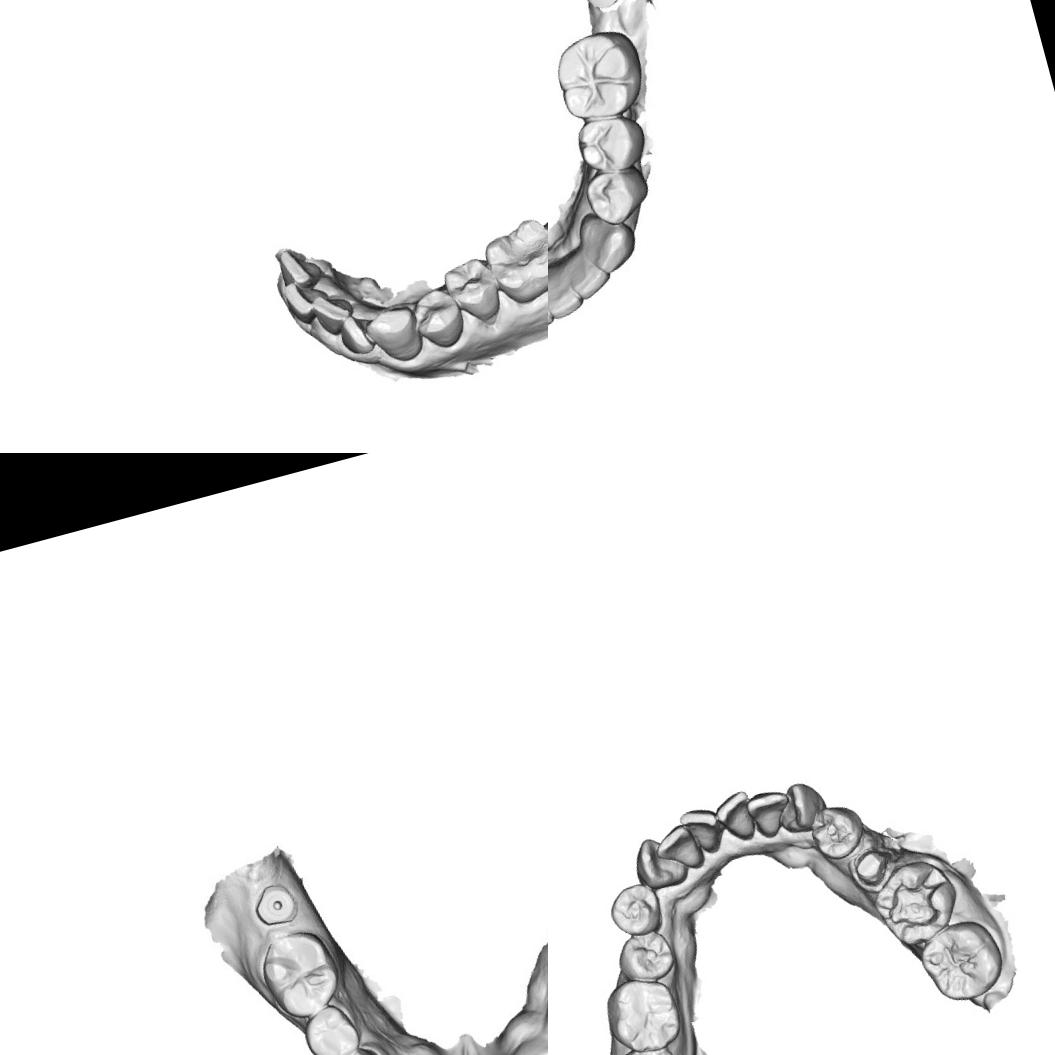canine: (576, 204, 642, 278), (362, 300, 426, 369), (627, 829, 692, 895), (770, 776, 832, 838)
crown: (848, 842, 896, 890)
implant: (249, 877, 300, 929), (573, 0, 634, 18)
incisor: (648, 818, 707, 877), (744, 784, 797, 842), (677, 802, 727, 859), (711, 787, 759, 846), (279, 273, 330, 328), (274, 242, 325, 294), (308, 287, 358, 340), (334, 308, 382, 360), (565, 252, 614, 302), (548, 267, 585, 322)
inlay: (878, 861, 958, 936)
molar: (548, 21, 653, 127), (911, 911, 1011, 1010), (253, 922, 348, 1024), (597, 968, 688, 1055), (477, 210, 548, 310)
premolar: (571, 106, 652, 180), (580, 161, 653, 231), (438, 253, 505, 328), (610, 922, 680, 990), (407, 282, 470, 356), (802, 798, 870, 866), (602, 878, 668, 941), (296, 998, 364, 1055)
